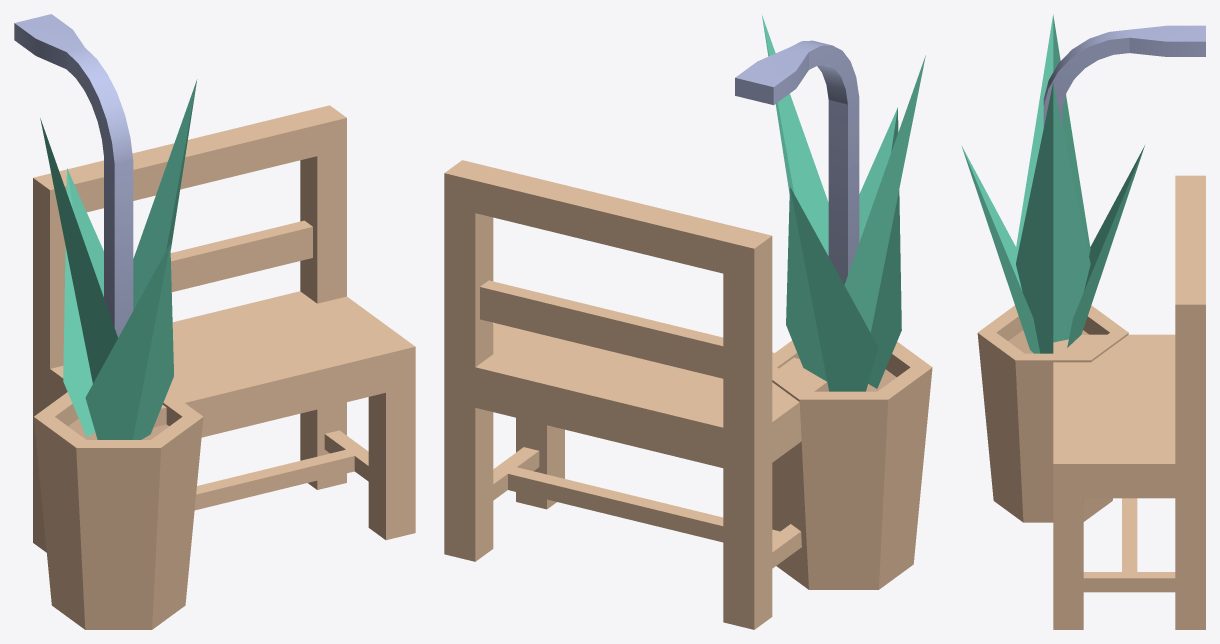
The model's file is street.glb.
3 renders of one model, left to right at view 1: azimuth 30°, elevation 25°; view 2: azimuth 150°, elevation 25°; view 3: azimuth 270°, elevation 25°, orthographic. The views are drawn at different scales.
Parts seen in each view (by area): view 1: bench(Clone), Mesh pottedPlant, plant, light-curved; view 2: bench(Clone), Mesh pottedPlant, plant, light-curved; view 3: bench(Clone), plant, Mesh pottedPlant, light-curved.
Boxes of the visible parts, x1,y1,x2,y2 form: bench(Clone): (33, 105, 415, 552); Mesh pottedPlant: (34, 391, 203, 629); plant: (40, 79, 197, 439); light-curved: (14, 14, 133, 337); bench(Clone): (444, 160, 828, 629); Mesh pottedPlant: (772, 340, 932, 589); plant: (762, 15, 925, 391); light-curved: (735, 40, 859, 284); bench(Clone): (1053, 175, 1205, 629); plant: (961, 14, 1144, 353); Mesh pottedPlant: (977, 305, 1128, 522); light-curved: (1043, 25, 1205, 127).
Bounding box in the file's own units: 0.506 × 0.675 × 0.3207.
Materials: 4 (1 with a texture image).
